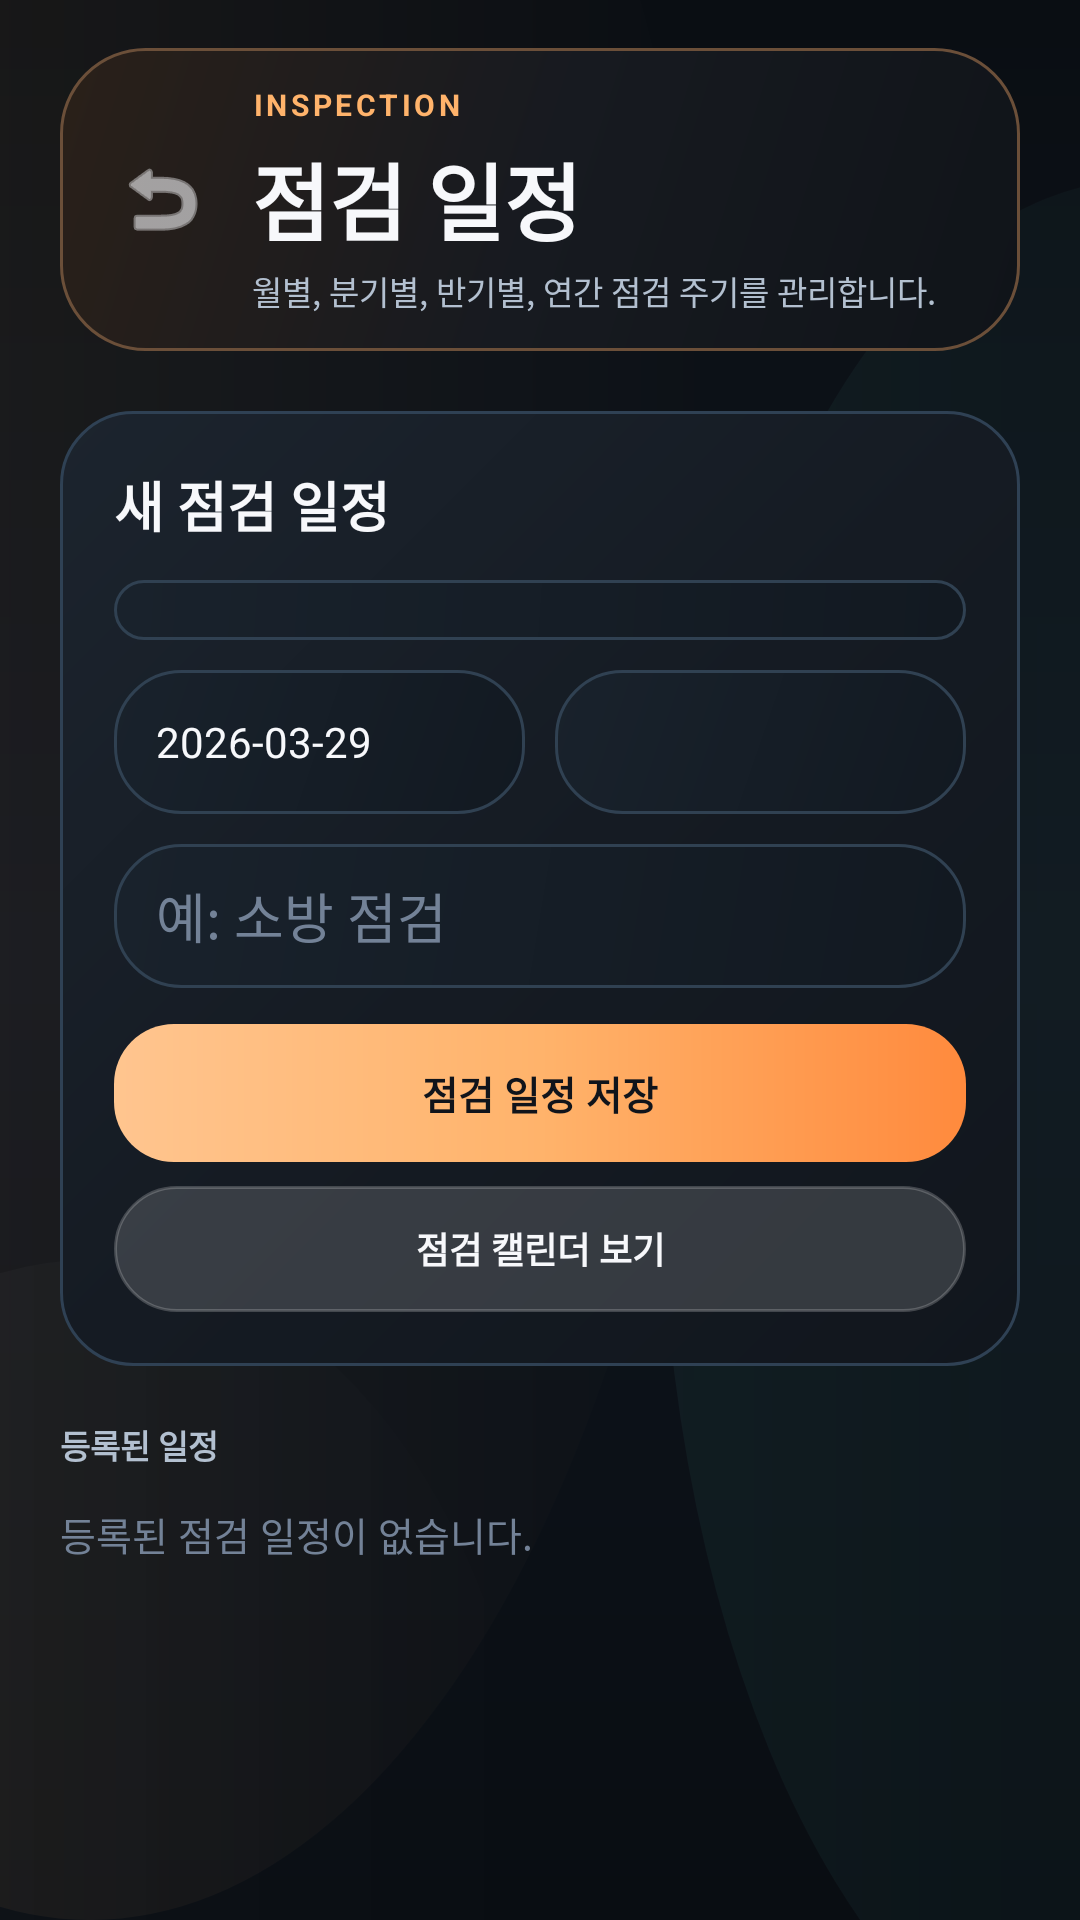

Named icons in this screenshot (1080x1920) and their centers, [x,y]:
revert: [163,199]
